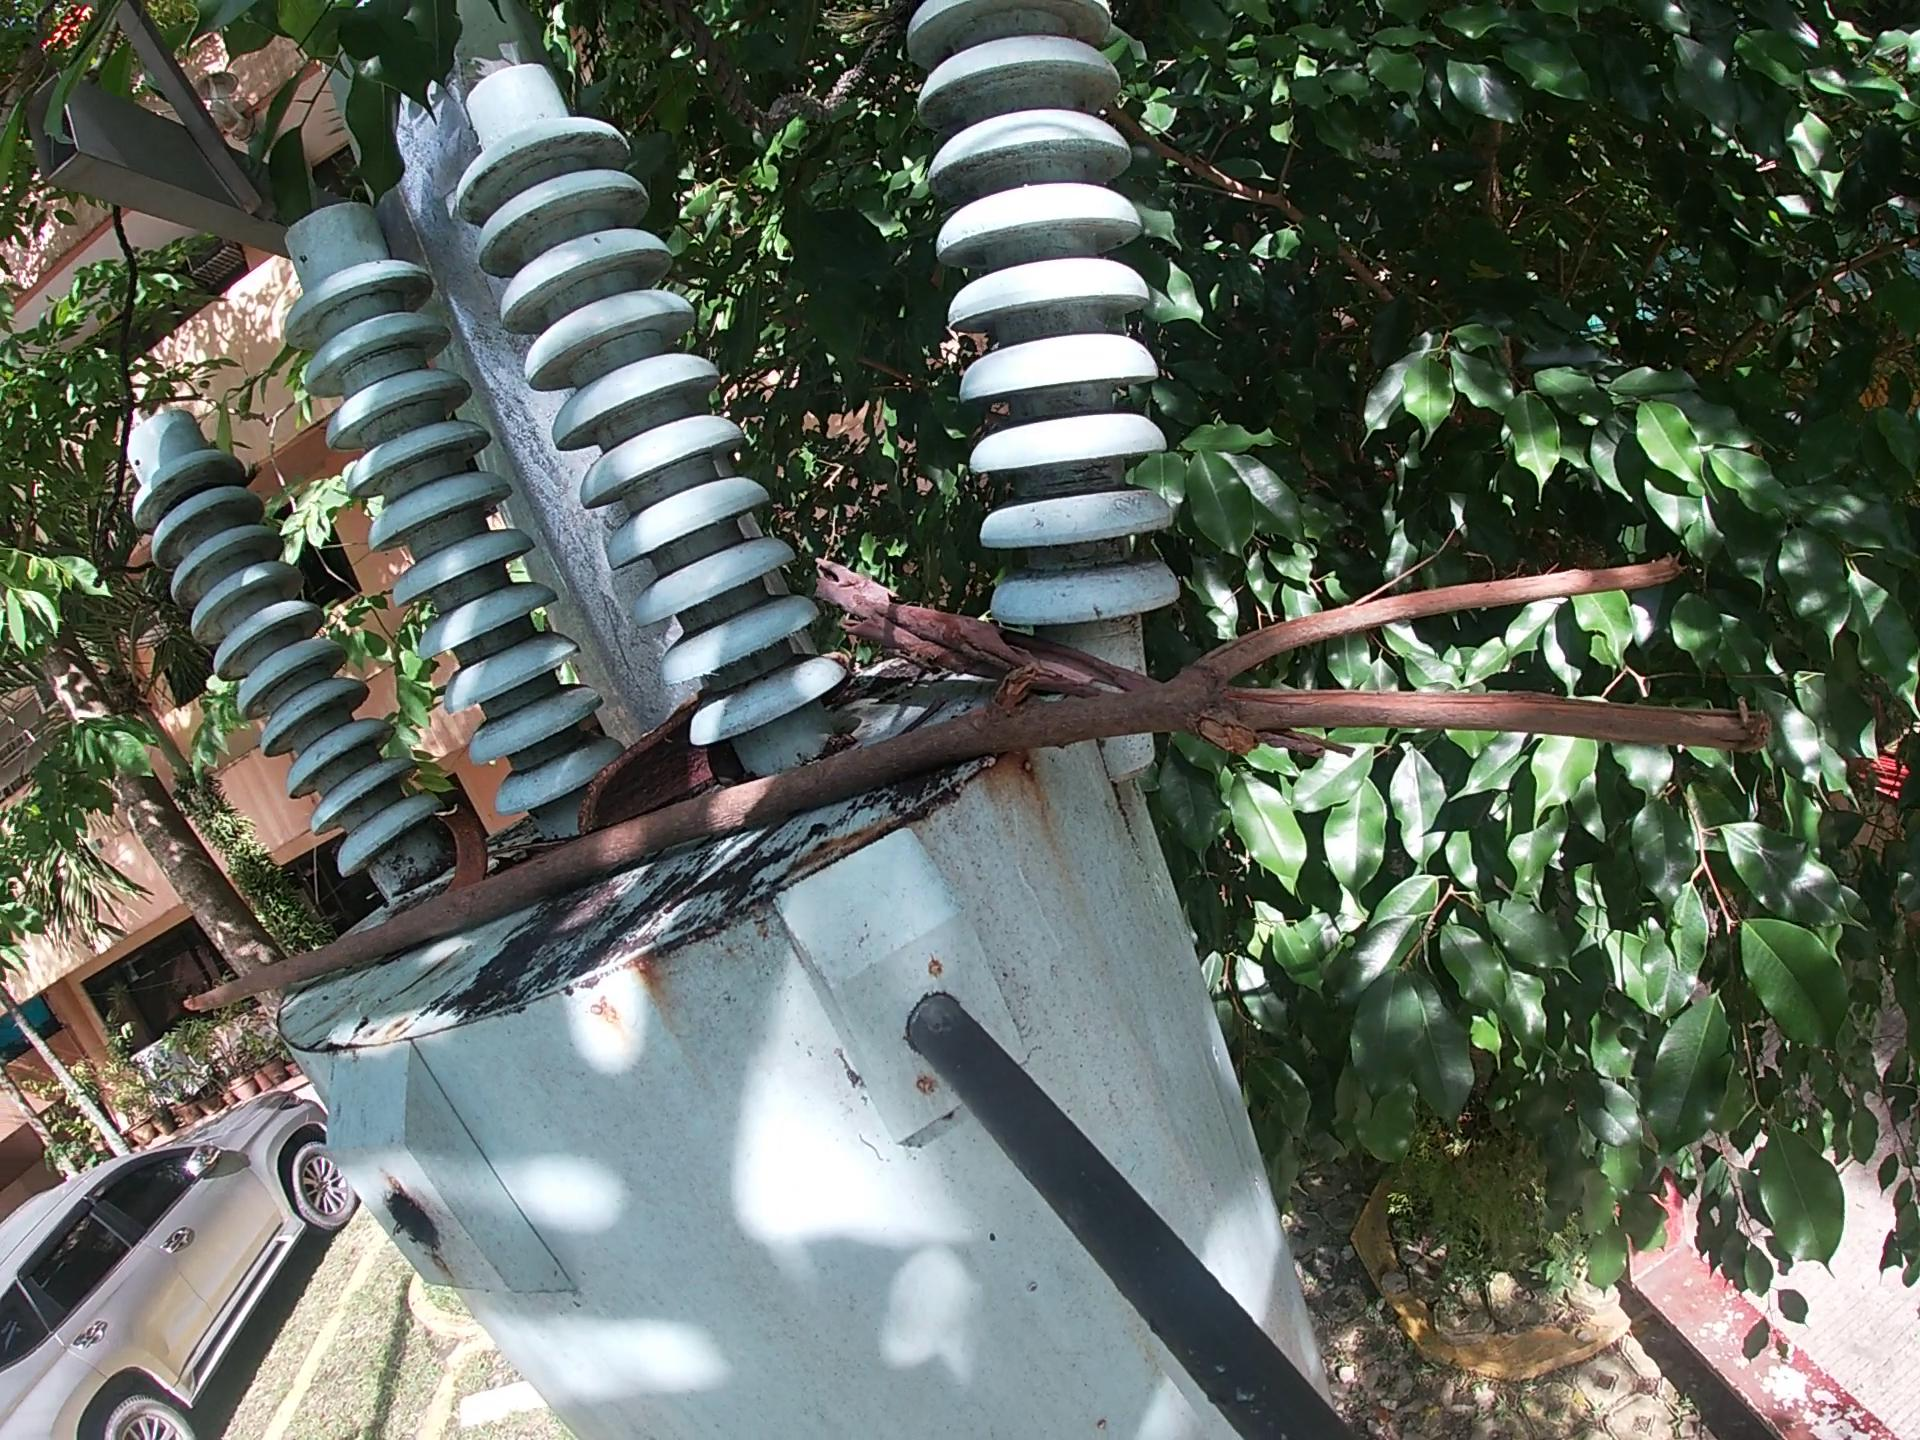mahogany fruit: (574, 685, 726, 836), (435, 799, 491, 898)
tree branch: (174, 542, 1779, 1029), (801, 552, 1371, 768)
